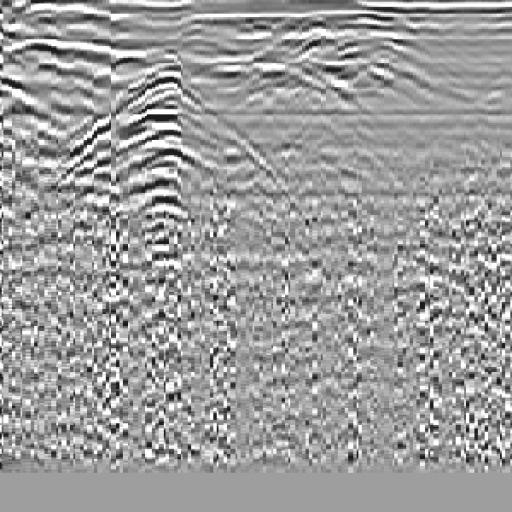metalic: (82, 51, 214, 290)
